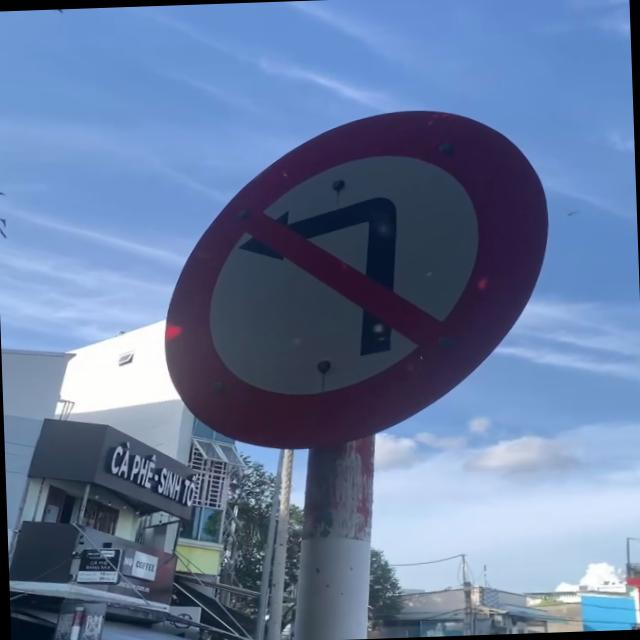Cam_Re_Trai: (152, 102, 556, 471)
